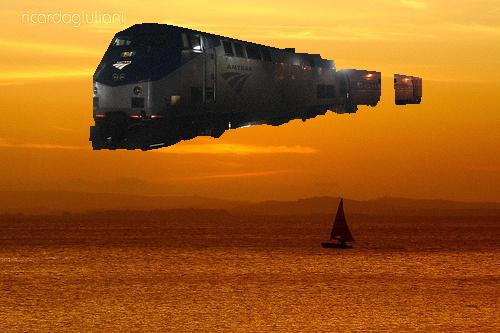tampered: (90, 24, 422, 151)
